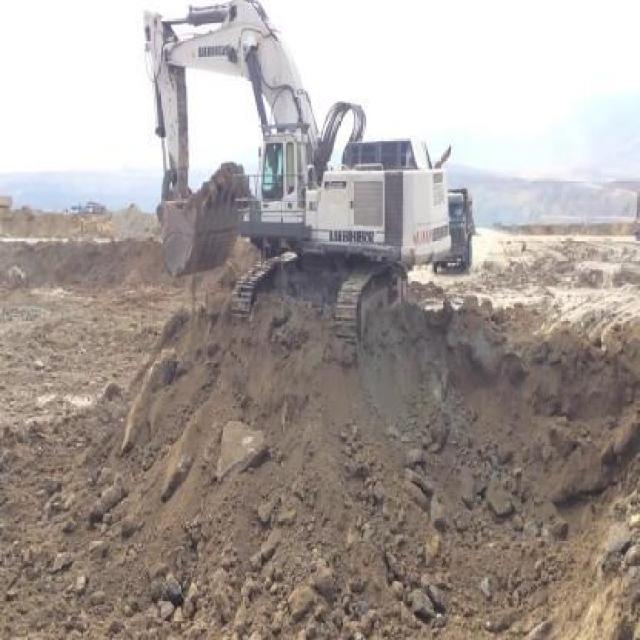Dump Truck: (448, 187, 474, 271)
Excavator: (129, 0, 457, 345)
